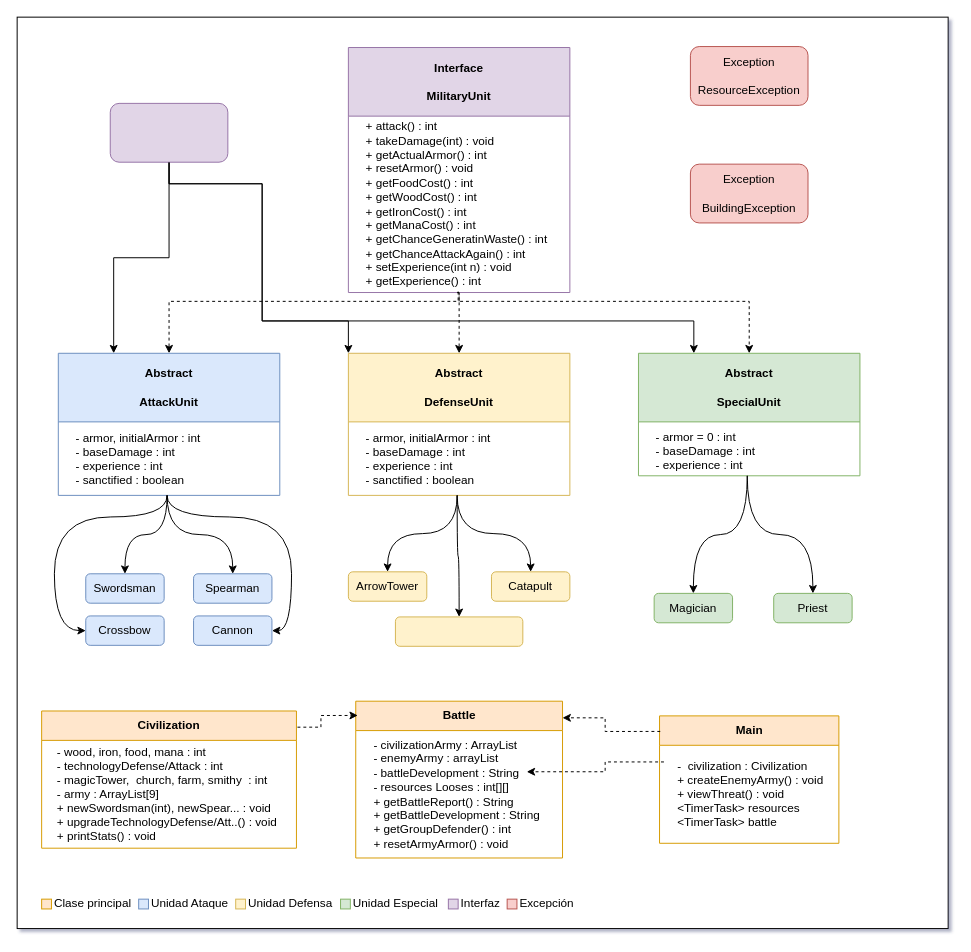
Image size: 971x952. Some labels were removed from this diagram. Here are the shapes that lost their labels. From the top down, the centre of each, then its label:
the point at 168,132: Interface Variables
the point at 458,631: RocketLaunchTower
